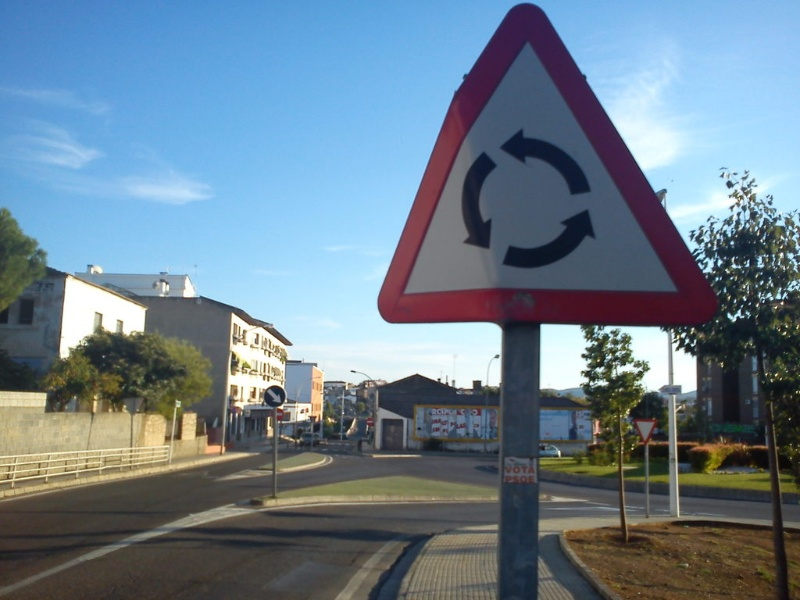roundabout_ahead: (379, 34, 729, 354)
